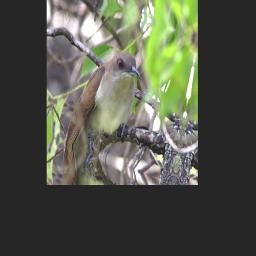Cuckoo: (65, 34, 145, 167)
